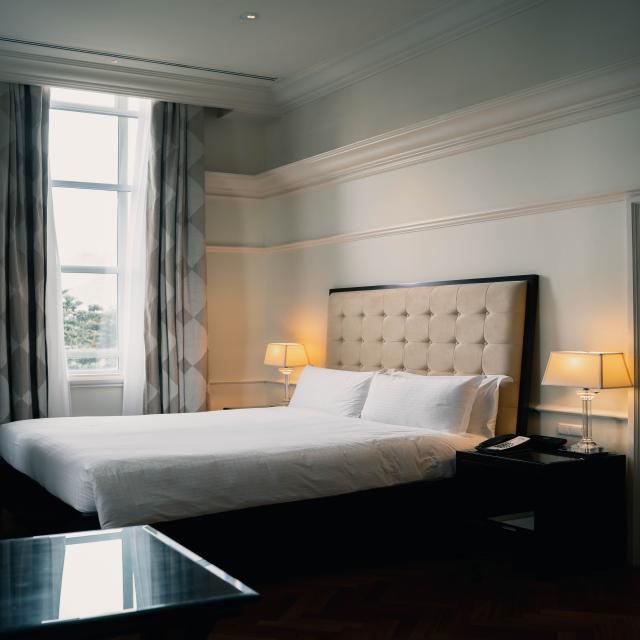floor: (194, 511, 639, 640)
